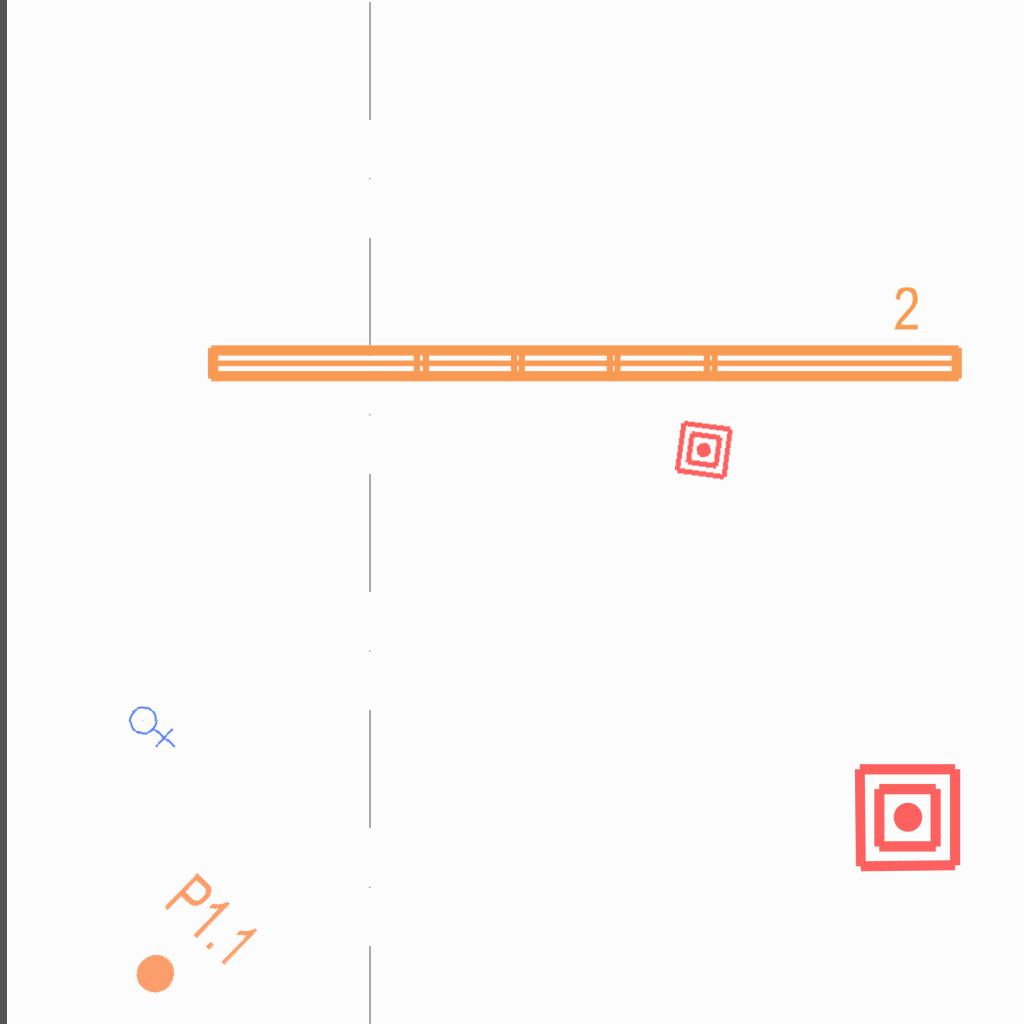Ambulanz_Pendelleuchte_LED: (197, 282, 971, 394)
Downlight_LED_Einbauleuchten_Flur: (108, 867, 265, 1024)
Elektroanschluss_allgemein_230V_Geraeteanschlussdose_230V: (126, 698, 179, 753)
NAM-Nichtautomatischer_Melder: (851, 761, 964, 874), (672, 418, 736, 482)
